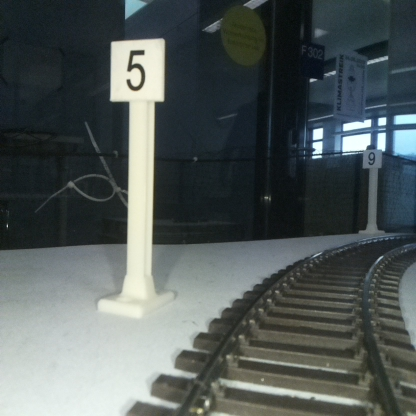white-info-5: (110, 38, 164, 310)
white-info-9: (363, 149, 381, 234)
